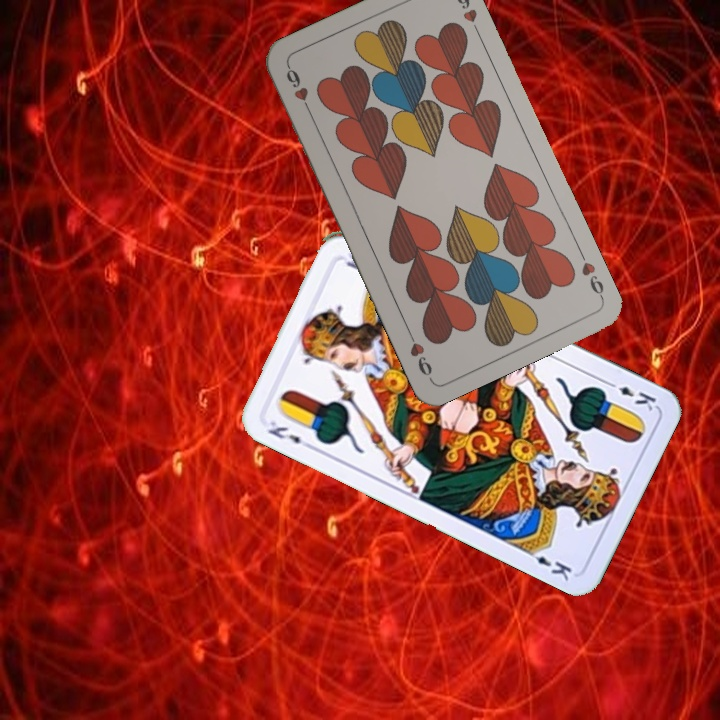EK: (602, 377, 659, 414), (263, 417, 315, 451)
H9: (282, 62, 315, 117), (577, 258, 607, 302)
